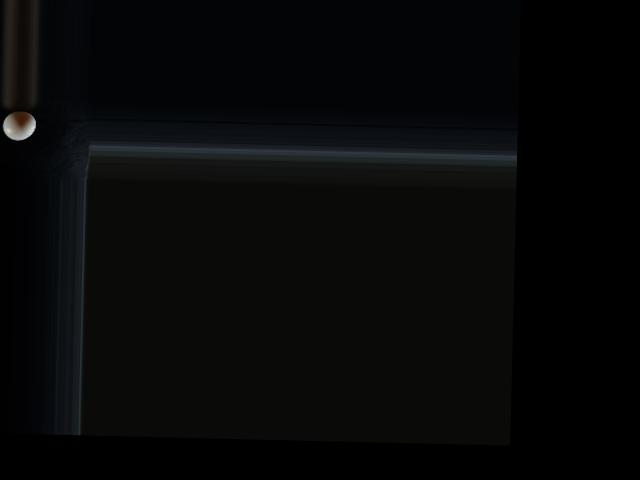egg: (3, 110, 36, 141)
